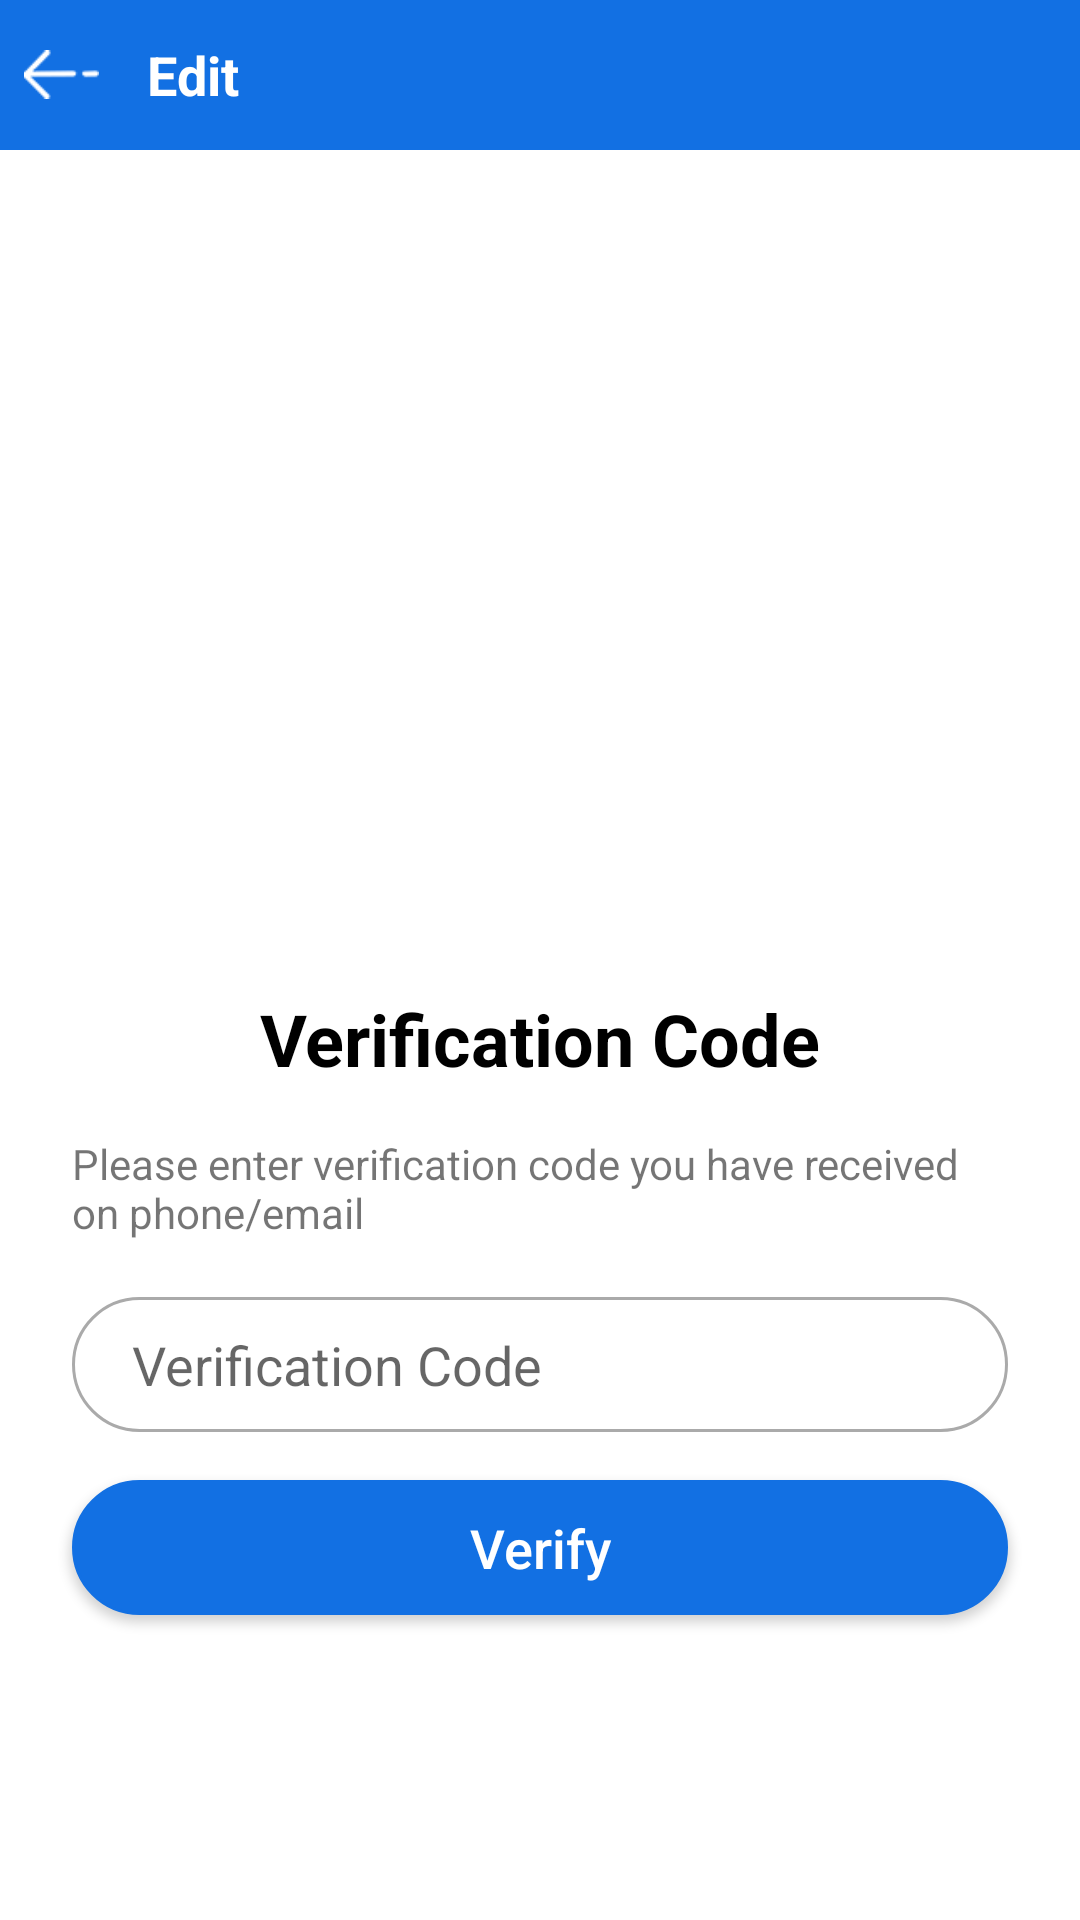

Point at icon controls on the screen. Image size 1080x1920, points as (x=x, y=y).
back: (x=61, y=74)
